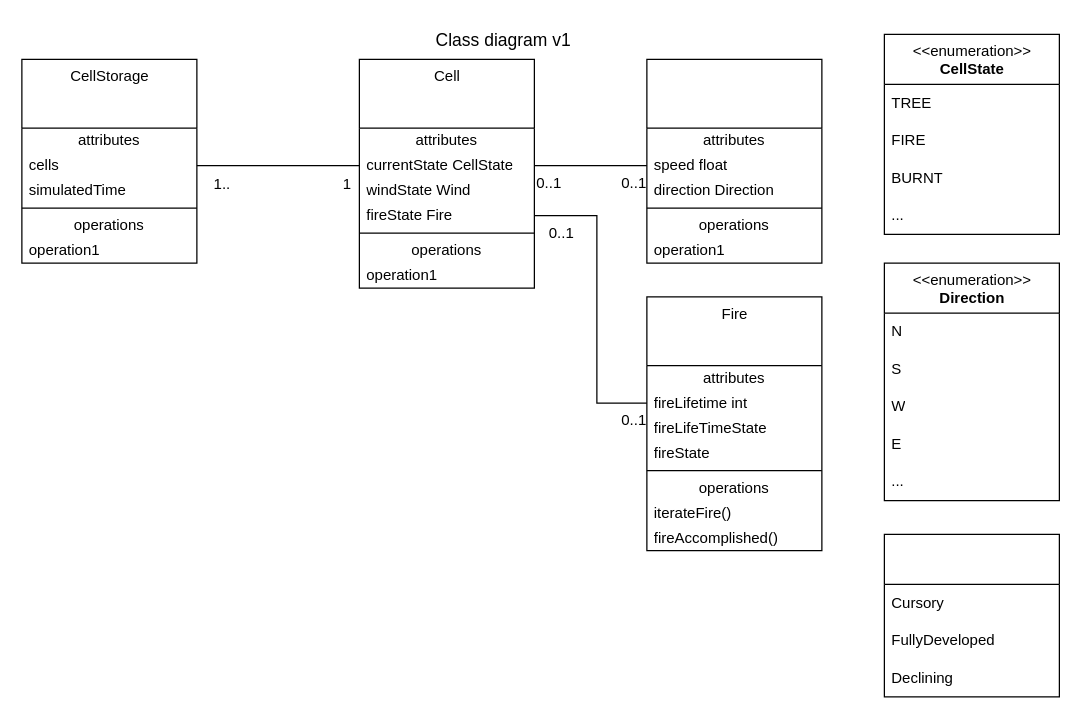
Image size: 1081x719. Some labels were removed from this diagram. Here are the shapes that lost their labels. From the top down, the box of each, then its label:
(646, 58, 822, 263): Wind
(883, 533, 1059, 697): <<enumeration>> FireState
